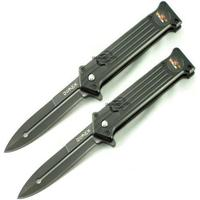knife: (3, 1, 186, 199)
